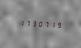nine: (53, 20, 58, 28)
one: (17, 18, 22, 27), (47, 20, 52, 28)
seven: (23, 19, 28, 27), (41, 20, 46, 28)
three: (29, 19, 34, 27)
zero: (35, 19, 40, 28)
